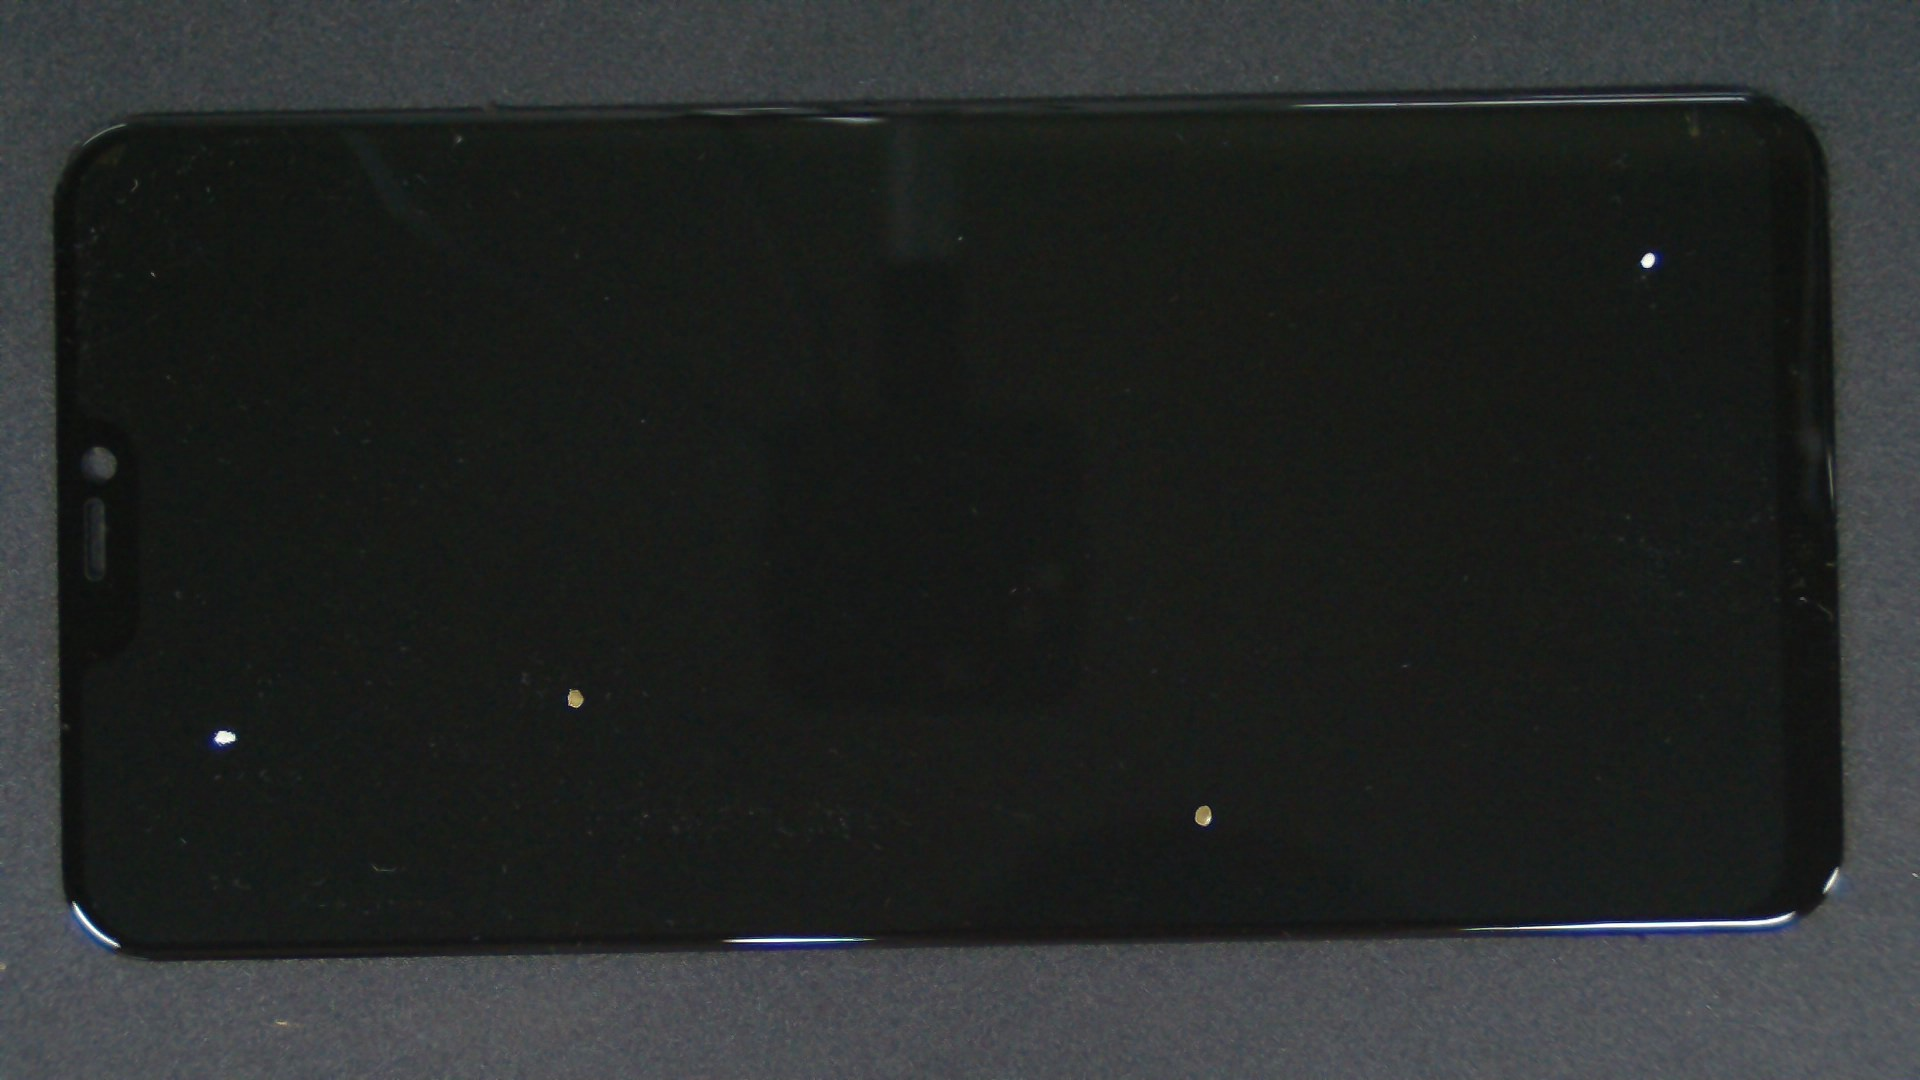oil: (605, 401, 1815, 1080), (289, 343, 864, 1030), (825, 125, 1920, 377), (111, 363, 327, 1080)
